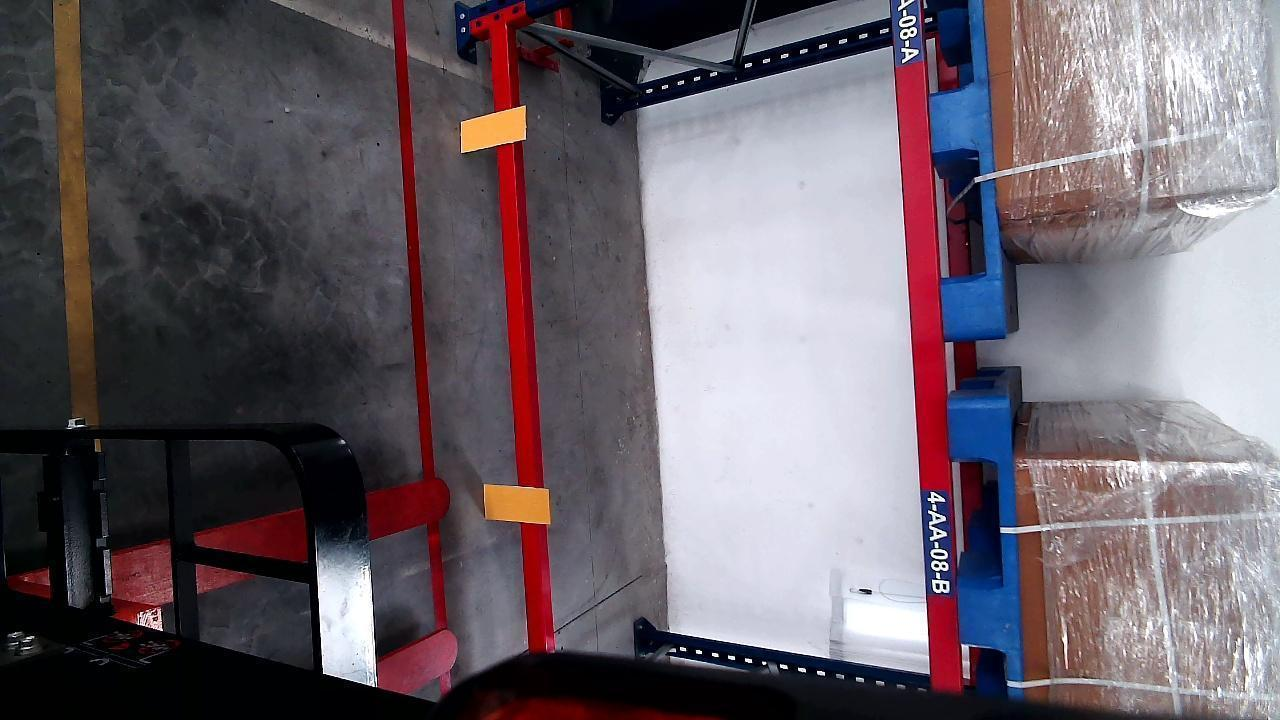red_line: (386, 0, 436, 496)
yellow_line: (54, 0, 102, 433)
